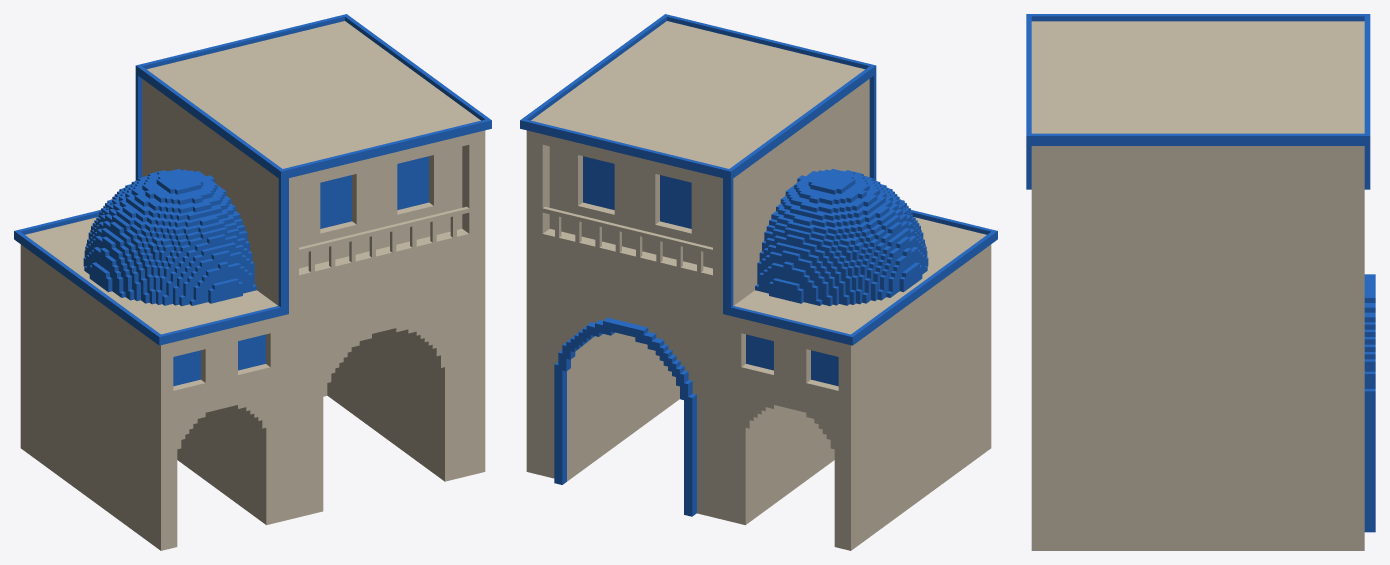
Rendered from Background_C_house_05.FBX.
3 views of the same model, side by side, from view 1: azimuth 30°, elevation 25°; view 2: azimuth 150°, elevation 25°; view 3: azimuth 270°, elevation 25° (orthographic). The views are drawn at different scales.
Visible parts, largest first — view 1: Background_C-18; view 2: Background_C-18; view 3: Background_C-18.
Boxes of the visible parts, x1,y1,x2,y2 form: Background_C-18: (14, 14, 491, 550); Background_C-18: (520, 14, 997, 550); Background_C-18: (1026, 14, 1375, 550).
Bounding box in the file's own units: 8.2 × 8.3 × 6.3.
1 material, 1 textured.
